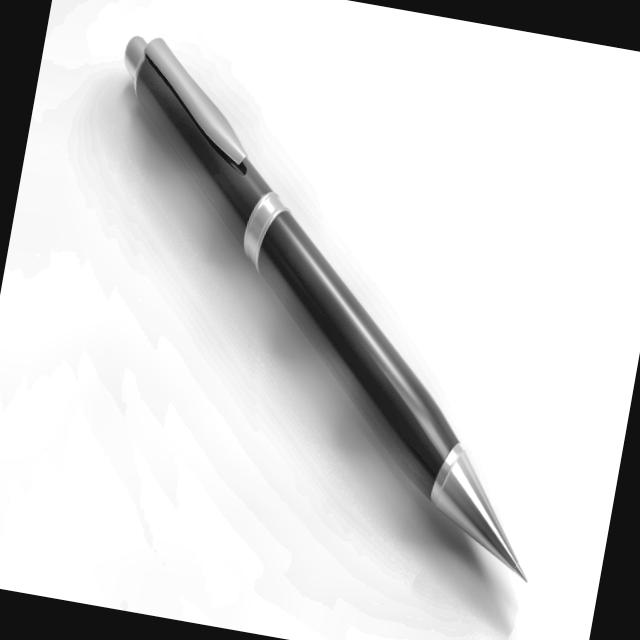Pen: (37, 6, 617, 593)
